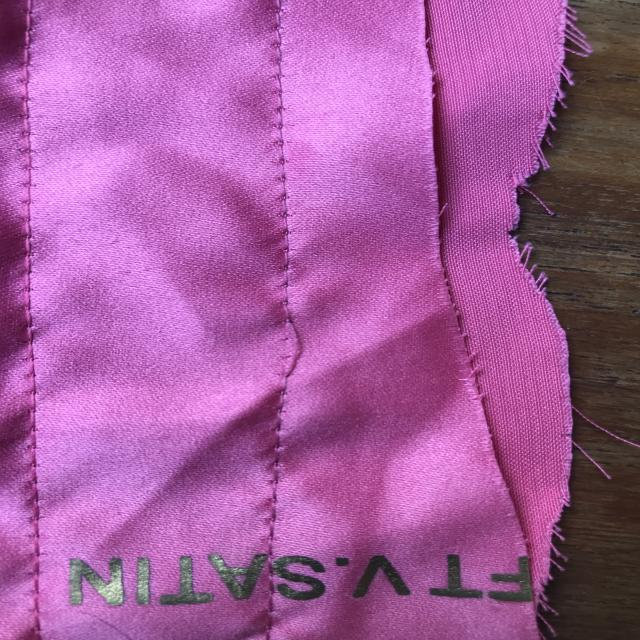skip: (264, 303, 315, 386)
